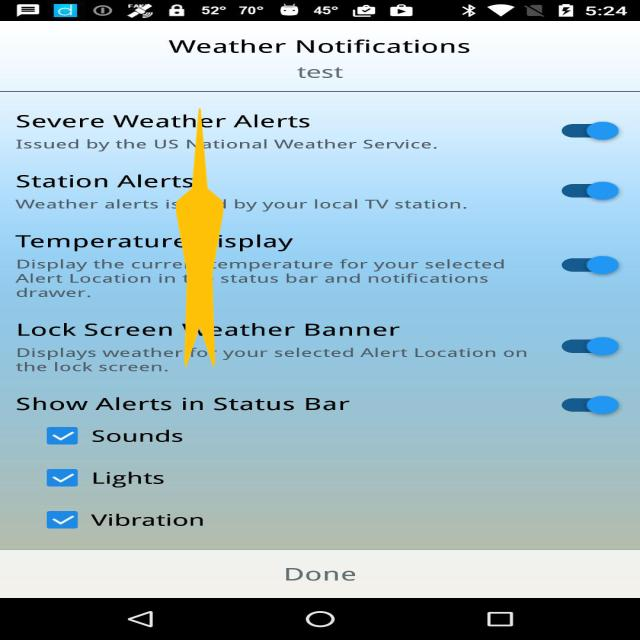forced continuity: (176, 108, 223, 367)
